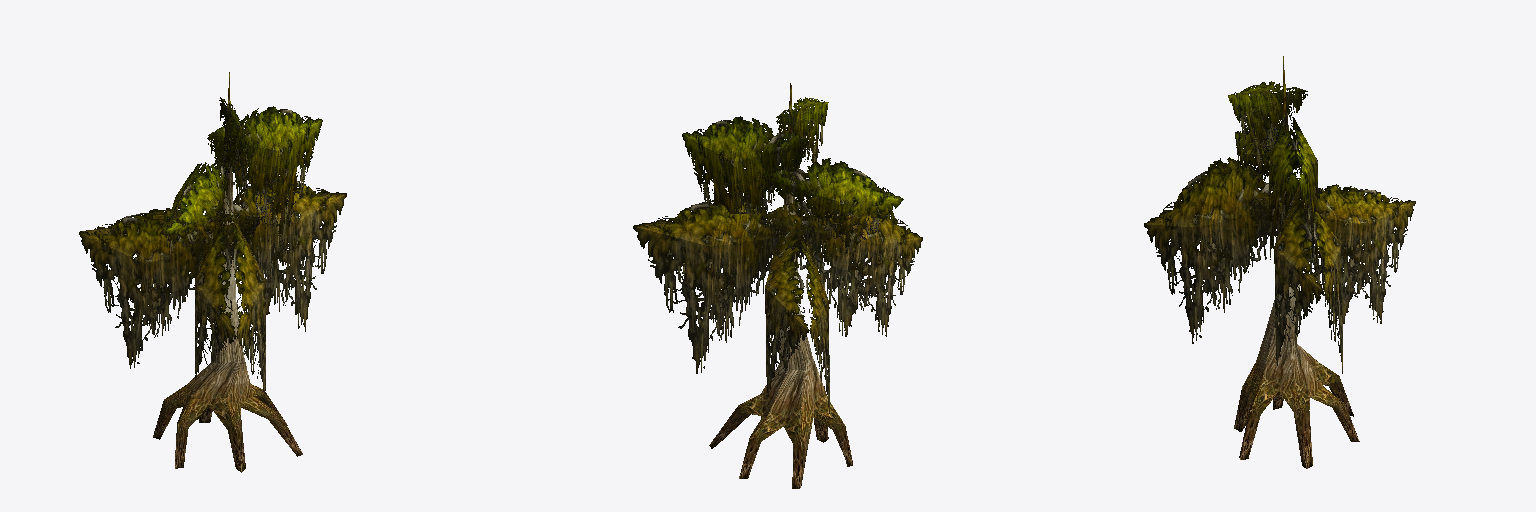
The picture shows the model from 3 angles: view 1: azimuth 30°, elevation 25°; view 2: azimuth 150°, elevation 25°; view 3: azimuth 270°, elevation 25°; orthographic projection.
Parts seen in each view (by area): view 1: SwampSorrowTree02; view 2: SwampSorrowTree02; view 3: SwampSorrowTree02.
Boxes of the visible parts, box(x1,y1,x2,y2) form: SwampSorrowTree02: box(79, 72, 346, 472); SwampSorrowTree02: box(633, 83, 922, 488); SwampSorrowTree02: box(1144, 56, 1415, 468).
Size of the model in its own units: 21.73 by 34.87 by 22.61.
2 materials, 2 textured.